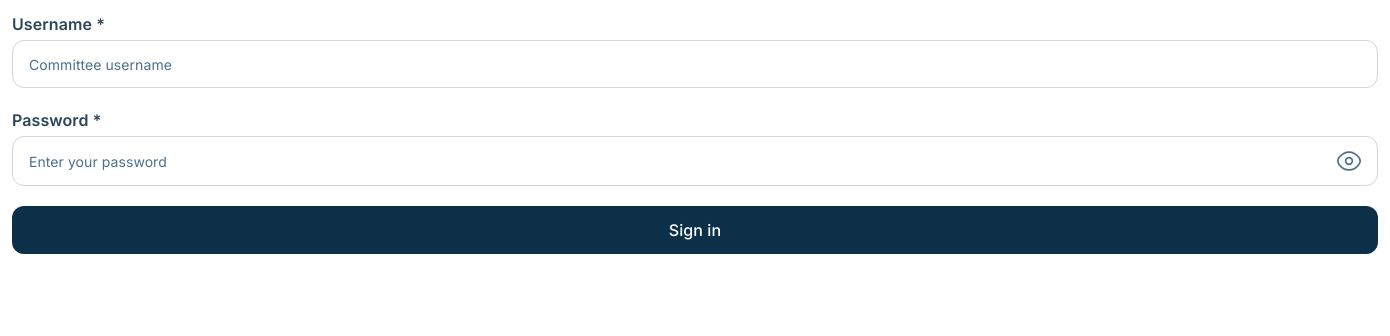
it: AdminSignInForm (A0) › shows a generic message for an unexpected answer
Type "committee" into the field labelled "Username" at (695, 64), box [29,54,1361,74]
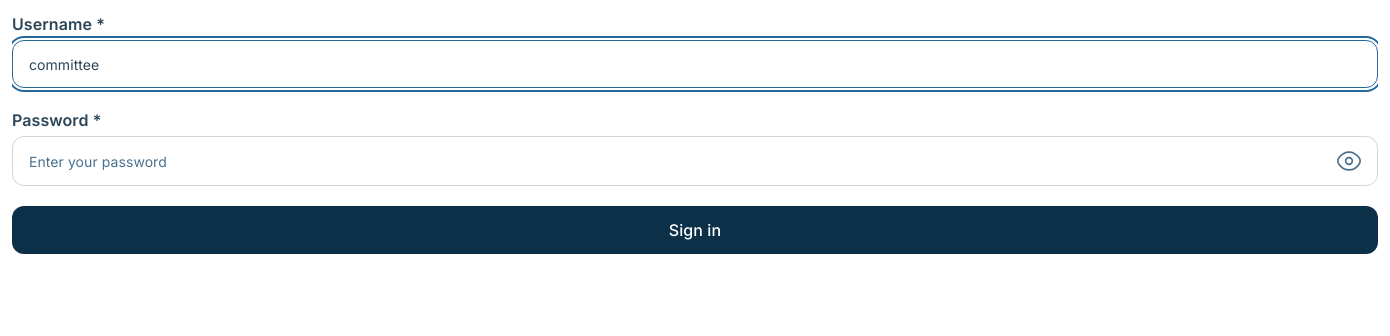
Type "committee2026" into the password field labelled "Password *" at (677, 161), box [29,150,1325,172]
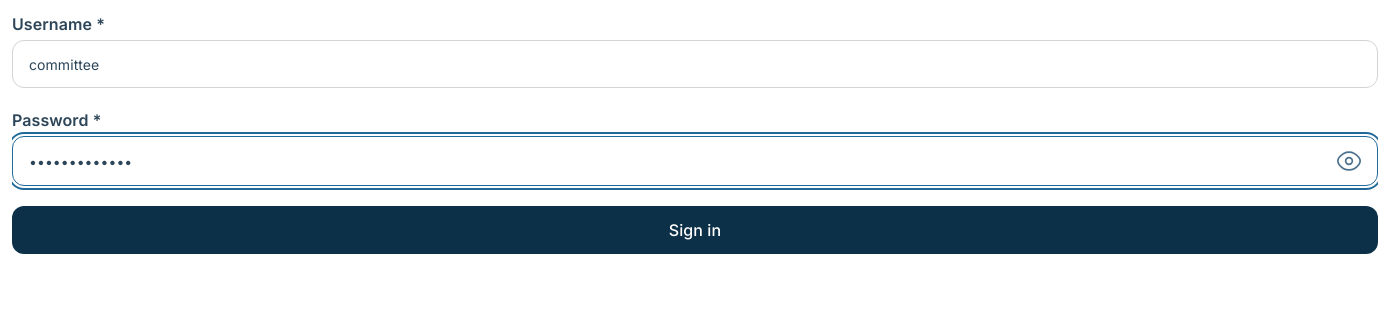
Click the button "Sign in" at (695, 230), box [12,206,1378,254]
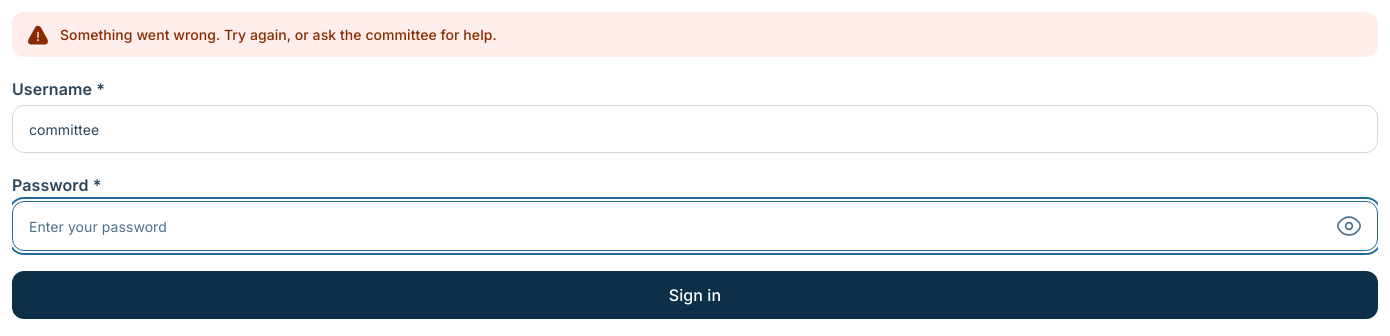
Expected: the message shows "Something went wrong", [60,26,497,43]
